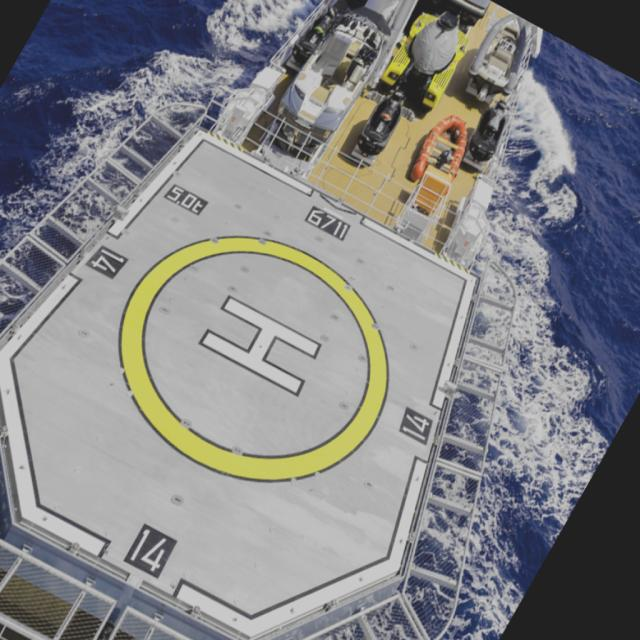helipad: (112, 231, 394, 488)
